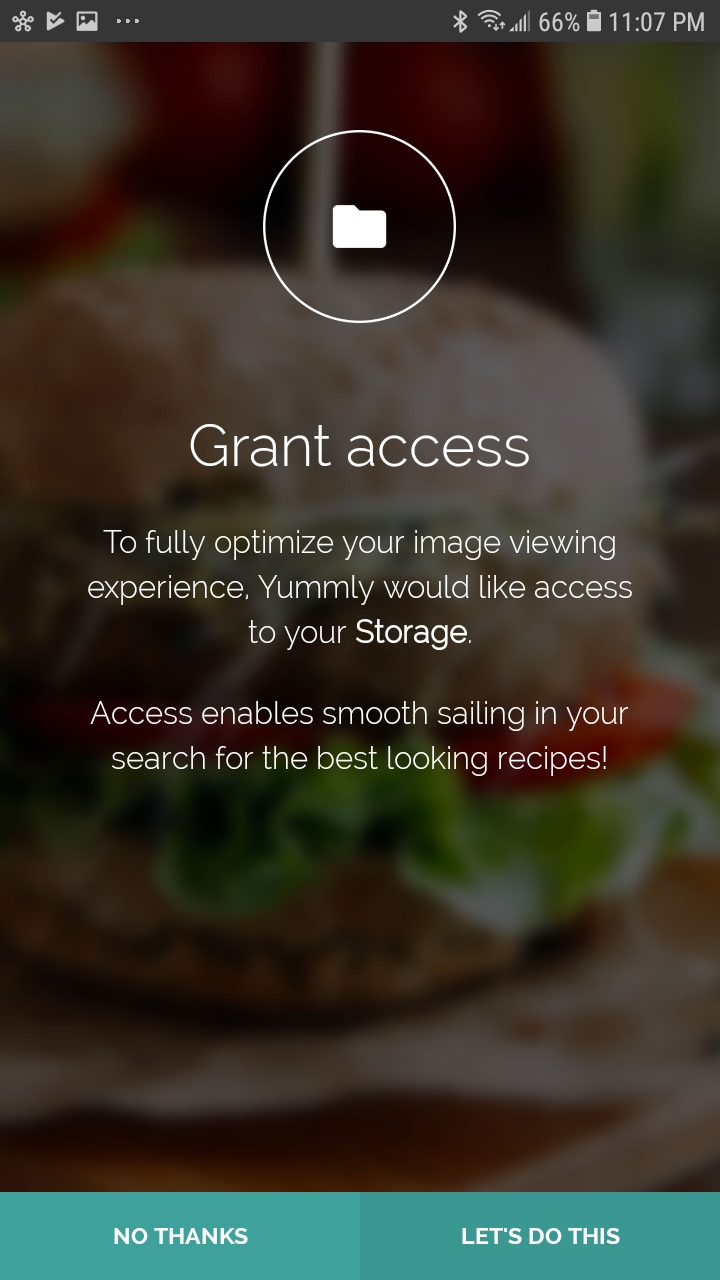BackgroundImage: (1, 43, 720, 1192)
Image: (263, 130, 457, 325)
Text: (88, 529, 633, 652), (91, 700, 630, 777), (190, 423, 530, 469)
TextButton: (1, 1192, 362, 1280), (363, 1192, 720, 1280)
UpperTaskBar: (1, 1, 720, 43)
